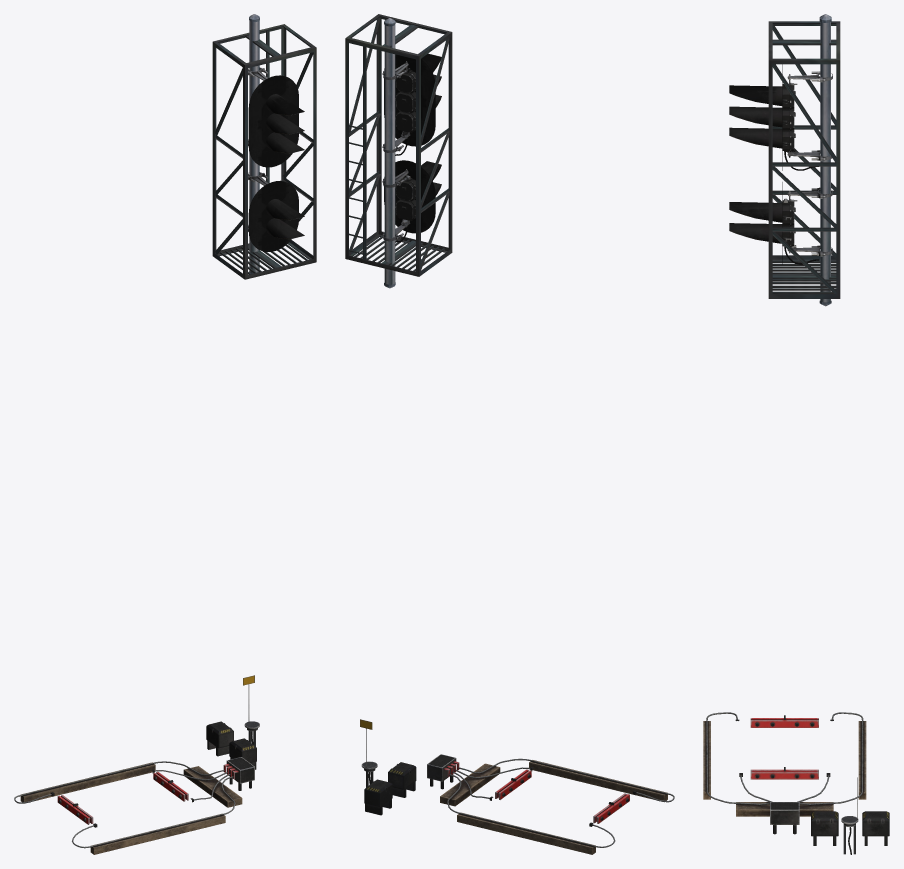
The model's file is RM_sig_RM2_3+2_exit.gltf.
The picture shows the model from 3 angles, left to right: view 1: azimuth 30°, elevation 25°; view 2: azimuth 150°, elevation 25°; view 3: azimuth 270°, elevation 25°; orthographic projection. The views are drawn at different scales.
Parts seen in each view (by area): view 1: Object_1, Изостык, Object001; view 2: Object_1, Изостык, Object001; view 3: Object_1, Изостык, Object001.
Boxes of the visible parts, box(x1,y1,x2,y2) form: Object_1: box(212, 14, 316, 279); Изостык: box(14, 675, 259, 854); Object001: box(248, 67, 304, 251); Object_1: box(345, 14, 452, 288); Изостык: box(360, 719, 674, 854); Object001: box(382, 53, 441, 242); Object_1: box(768, 14, 840, 306); Изостык: box(703, 712, 889, 854); Object001: box(729, 64, 832, 264).
Size of the model in its own units: 4.42 by 12.01 by 2.43.
Materials: 5 (3 with a texture image).
